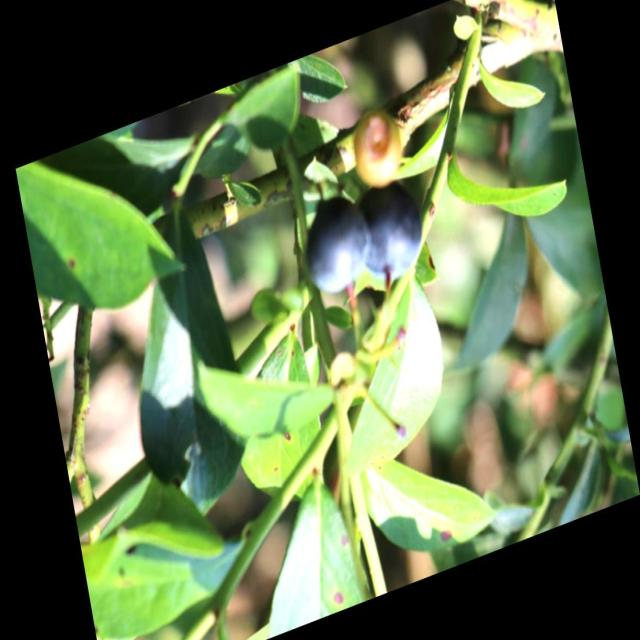blueberry: (294, 186, 374, 302), (351, 169, 428, 287)
blueberry-unripe: (345, 99, 410, 197)
